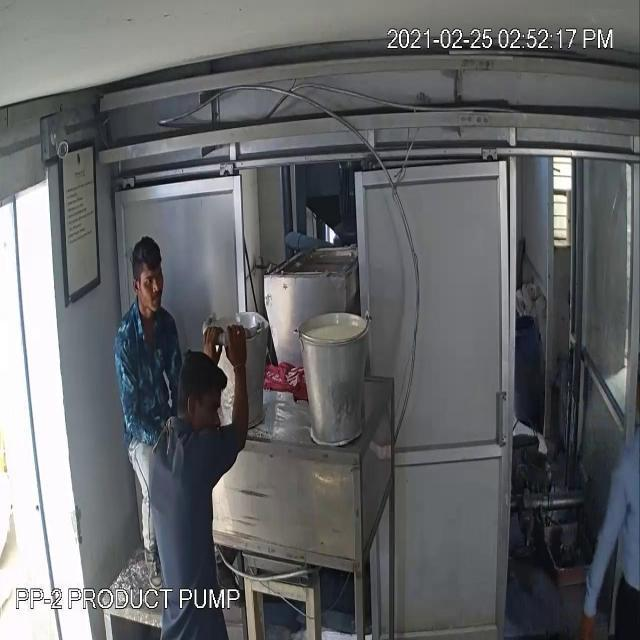no hat: (172, 340, 238, 412), (125, 225, 169, 288)
